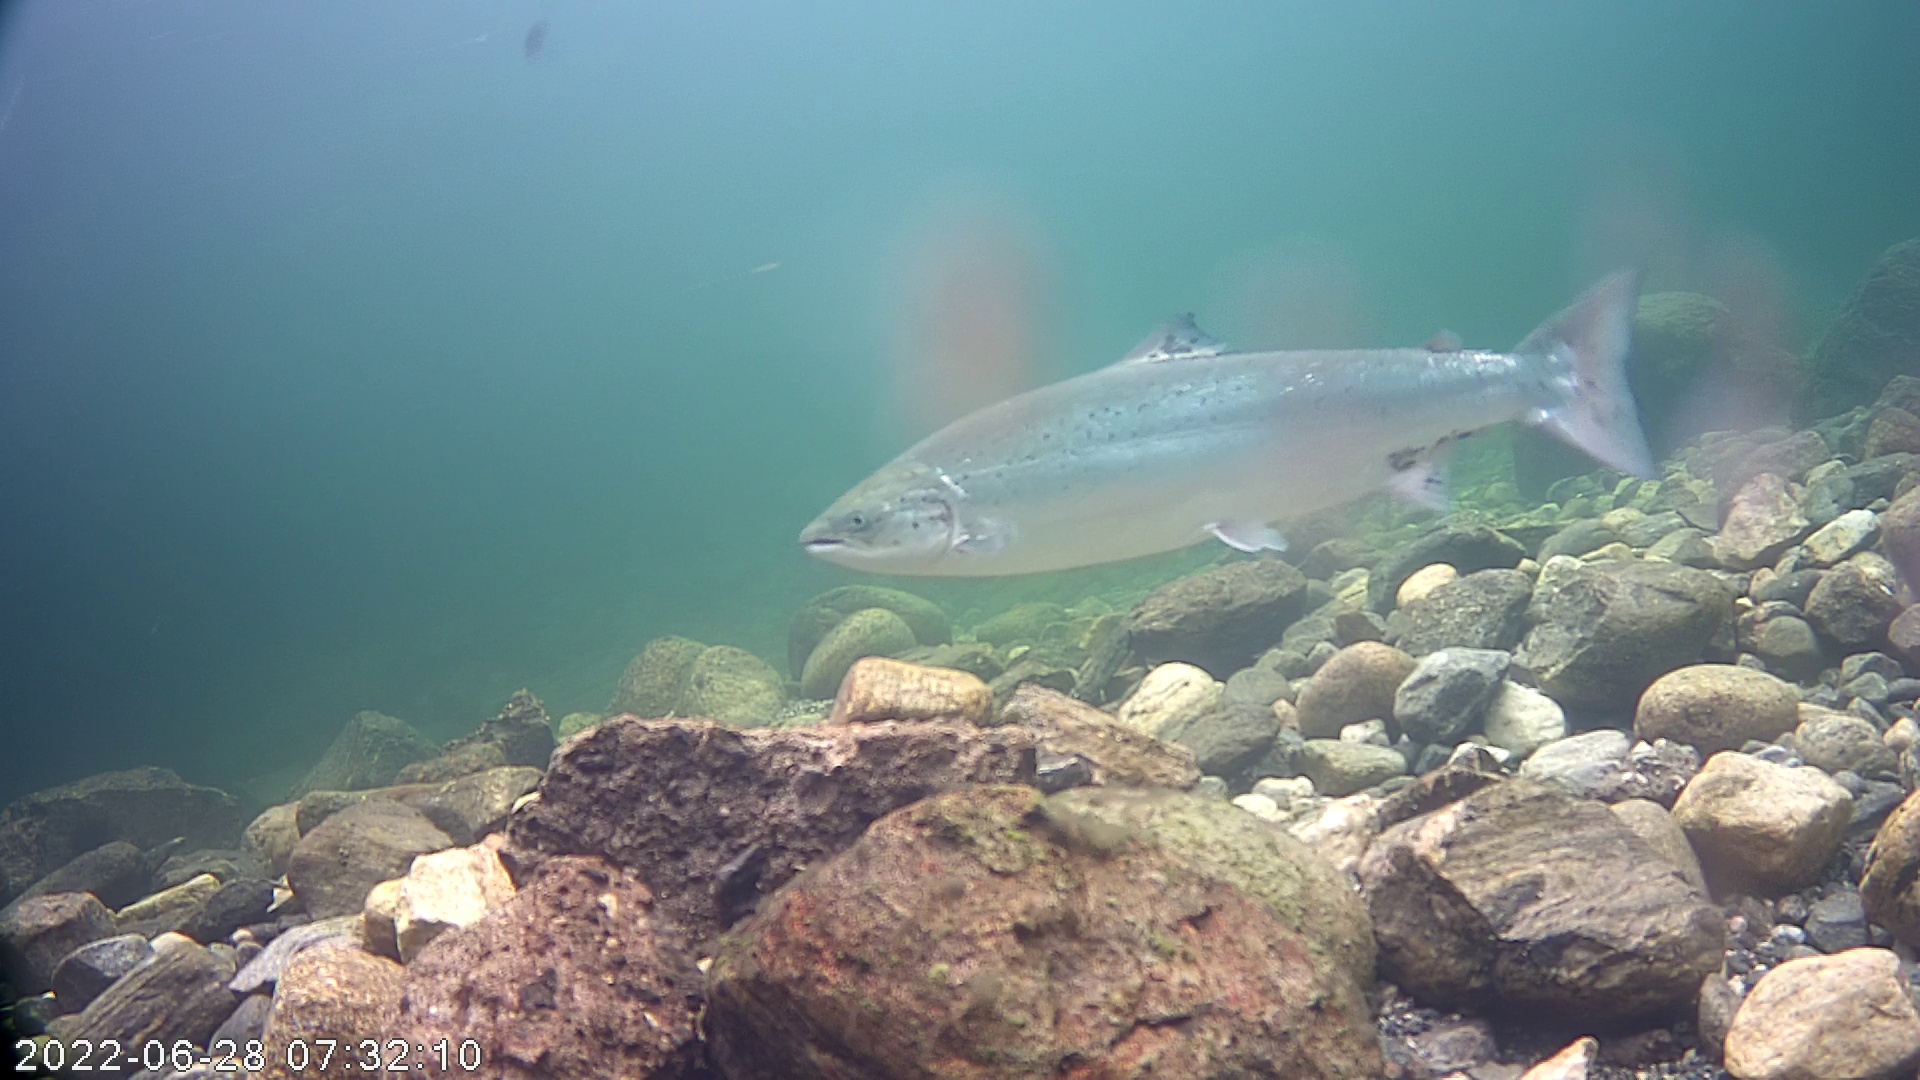salmon: (789, 196, 1691, 617)
